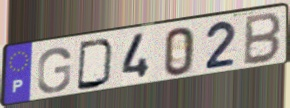0: (162, 25, 197, 77)
2: (204, 18, 239, 72)
4: (120, 30, 155, 84)
B: (241, 11, 283, 68)
D: (75, 38, 116, 92)
G: (35, 46, 73, 95)
